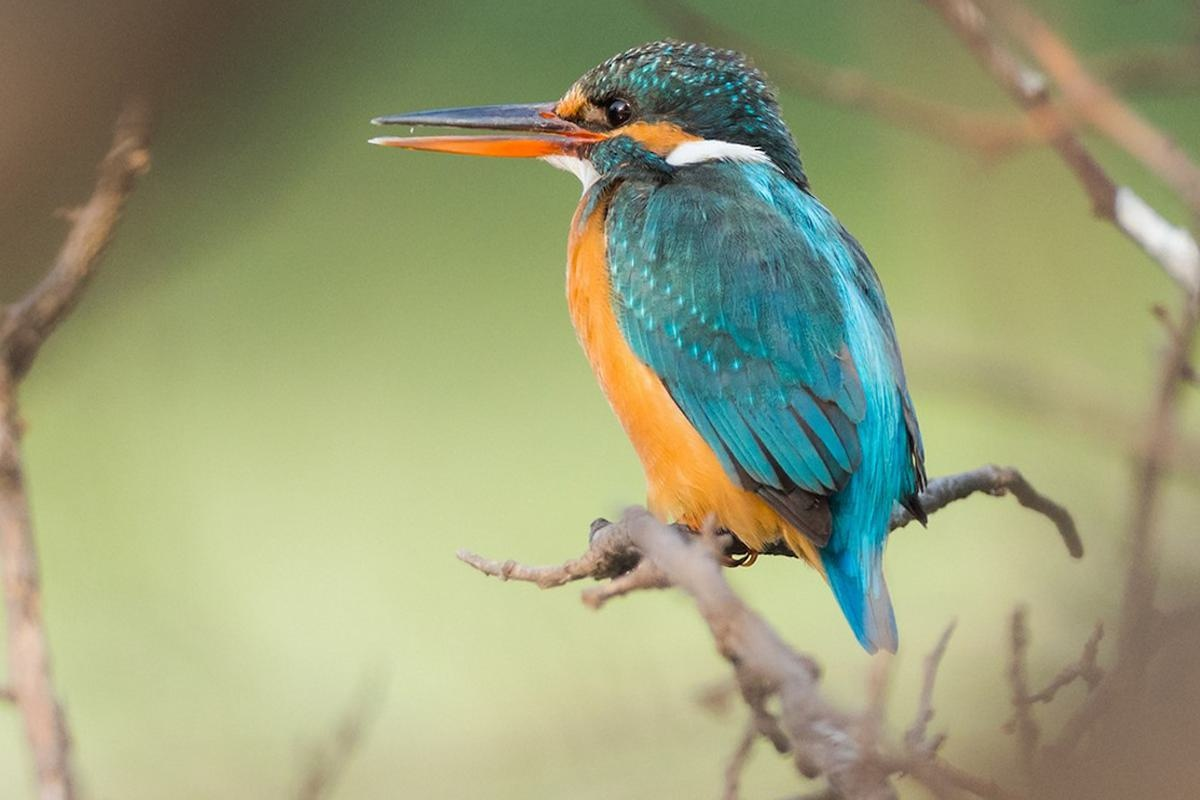kingfisher: (381, 40, 964, 610)
